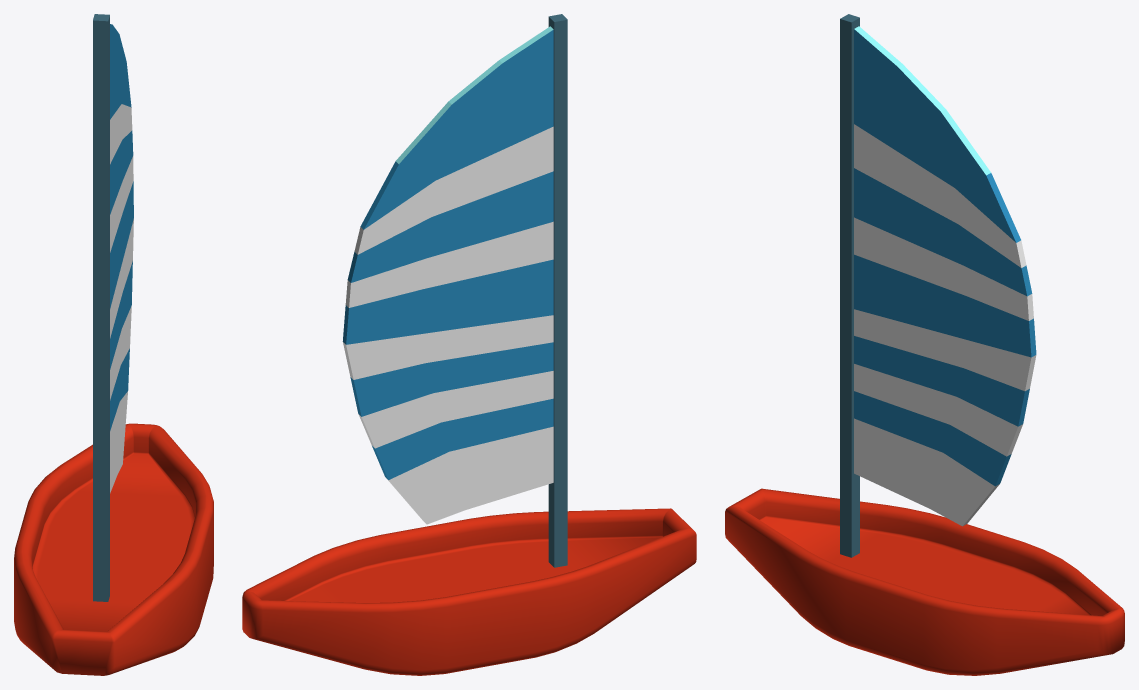
The model's file is boat 1.fbx.
3 views of the same model, side by side, from view 1: azimuth 30°, elevation 25°; view 2: azimuth 150°, elevation 25°; view 3: azimuth 270°, elevation 25° (orthographic). The views are drawn at different scales.
Parts seen in each view (by area): view 1: Cube.044; view 2: Cube.044; view 3: Cube.044.
Part boxes in pixels (x1,y1,x2,y2): Cube.044: (14, 14, 213, 675); Cube.044: (242, 14, 696, 675); Cube.044: (725, 14, 1124, 675).
Size of the model in its own units: 10.48 by 21.47 by 13.25.
1 material, 1 textured.
